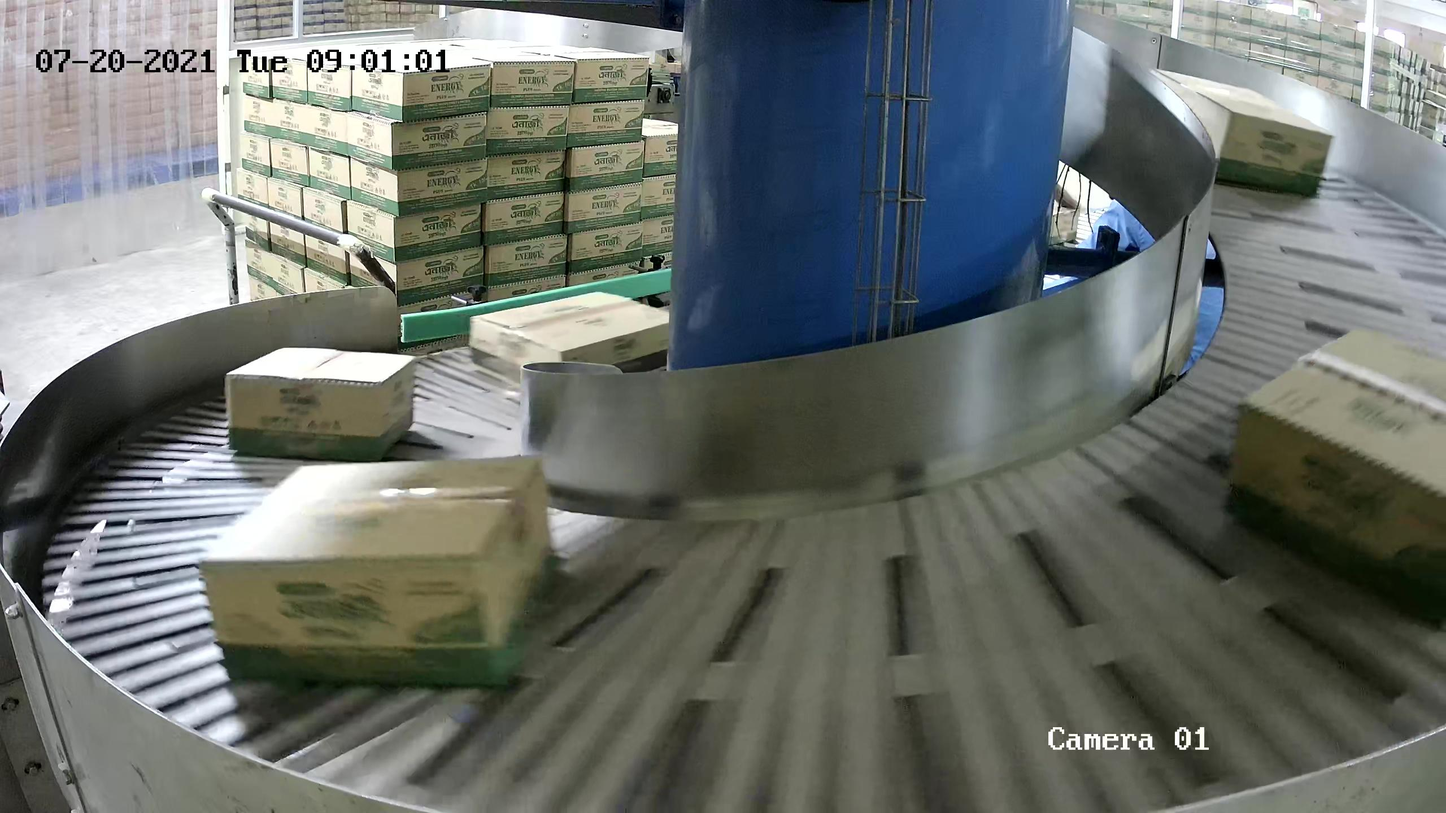Box: (196, 455, 558, 689), (1227, 325, 1446, 636), (1142, 66, 1334, 203), (469, 291, 686, 404), (225, 346, 419, 463)
